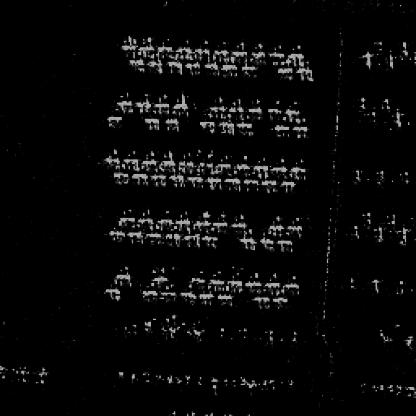airplane: (206, 96, 228, 120), (265, 99, 286, 122), (227, 96, 247, 120), (147, 266, 170, 286), (169, 91, 189, 114), (138, 34, 156, 59), (229, 213, 250, 234), (286, 44, 307, 65), (284, 102, 306, 122), (274, 63, 296, 83), (231, 154, 252, 174), (224, 268, 247, 286), (154, 39, 174, 59), (210, 42, 230, 62), (214, 288, 235, 307), (32, 364, 51, 385), (270, 156, 289, 177), (125, 54, 146, 73), (213, 154, 231, 176), (262, 270, 282, 289), (245, 268, 264, 288), (286, 218, 306, 237), (115, 209, 135, 228), (174, 42, 193, 62), (250, 41, 270, 60), (193, 156, 214, 174), (120, 34, 138, 55), (250, 292, 272, 309), (194, 39, 210, 62), (231, 41, 250, 60), (264, 216, 284, 234), (211, 211, 229, 231), (194, 210, 212, 230), (240, 60, 260, 78), (281, 270, 299, 289), (10, 364, 29, 382), (136, 209, 154, 228), (250, 158, 268, 177), (289, 158, 307, 177), (187, 270, 208, 286), (160, 148, 176, 169), (122, 148, 140, 166), (140, 148, 158, 166), (114, 94, 132, 112), (151, 97, 169, 115), (146, 57, 164, 75), (298, 65, 316, 83), (249, 98, 263, 121), (272, 124, 292, 140), (164, 58, 184, 74), (177, 153, 193, 172), (236, 122, 255, 138), (112, 268, 132, 283), (271, 42, 286, 62), (372, 39, 387, 59), (156, 211, 172, 229), (222, 177, 240, 193), (221, 58, 237, 76), (359, 50, 375, 68), (102, 284, 122, 298), (237, 236, 257, 250), (128, 171, 148, 185), (273, 289, 288, 307), (276, 237, 294, 252), (142, 117, 160, 132), (162, 117, 180, 132), (218, 120, 236, 135), (133, 98, 151, 113), (167, 174, 187, 187), (174, 213, 190, 229), (395, 169, 411, 185), (197, 120, 214, 135), (210, 266, 224, 284), (256, 236, 274, 250), (260, 179, 278, 193), (242, 178, 260, 192), (204, 177, 223, 190), (186, 60, 202, 75), (377, 96, 392, 112), (150, 174, 167, 188), (180, 234, 198, 247), (200, 232, 219, 244), (102, 148, 118, 162), (348, 224, 362, 240), (106, 228, 124, 240), (104, 116, 122, 128), (384, 52, 396, 70), (398, 39, 410, 57), (366, 107, 378, 125), (138, 288, 159, 298), (112, 171, 127, 185), (384, 211, 398, 226), (390, 106, 401, 125), (197, 291, 213, 304), (127, 229, 143, 242), (294, 125, 310, 138), (203, 60, 219, 73), (372, 226, 385, 242), (395, 228, 408, 244), (280, 179, 298, 190), (187, 176, 203, 188), (354, 96, 366, 112), (359, 212, 375, 224), (367, 275, 379, 291), (374, 168, 384, 186), (145, 231, 161, 242), (351, 166, 362, 182), (163, 232, 177, 244), (160, 288, 176, 298), (177, 289, 193, 299), (395, 278, 405, 294), (344, 274, 354, 288), (140, 370, 151, 382), (153, 372, 164, 384), (229, 377, 239, 388), (115, 369, 125, 379), (237, 375, 247, 385), (247, 378, 257, 388), (166, 372, 174, 384), (174, 372, 182, 384), (210, 376, 218, 388), (221, 377, 229, 388), (128, 372, 136, 382), (182, 374, 190, 384), (260, 378, 268, 388), (268, 379, 275, 390), (195, 375, 201, 385)
